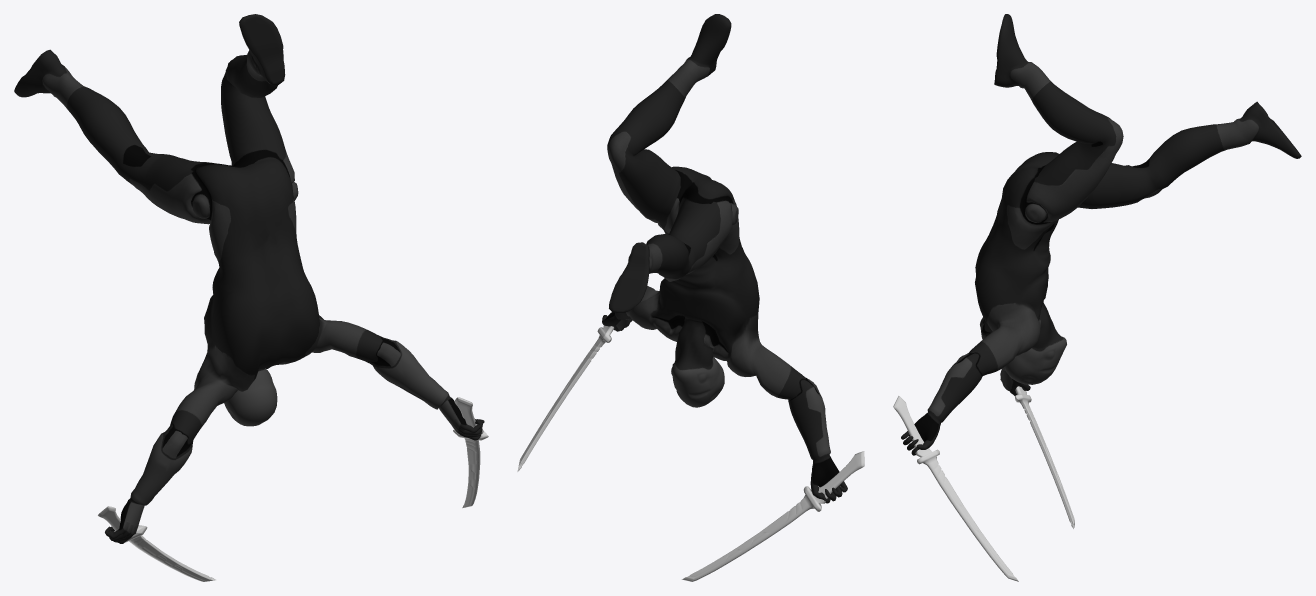
3 views of the same model, side by side, from view 1: azimuth 30°, elevation 25°; view 2: azimuth 150°, elevation 25°; view 3: azimuth 270°, elevation 25° (orthographic). The views are drawn at different scales.
Visible parts, largest first — view 1: Cyborg_Ninja_Killer, Sword_l001, Sword_l; view 2: Cyborg_Ninja_Killer, Sword_l001, Sword_l; view 3: Cyborg_Ninja_Killer, Sword_l, Sword_l001.
Boxes of the visible parts, x1,y1,x2,y2 form: Cyborg_Ninja_Killer: (14,14,484,543); Sword_l001: (98,506,215,581); Sword_l: (453,397,488,508); Cyborg_Ninja_Killer: (602,14,847,503); Sword_l001: (682,451,864,581); Sword_l: (517,325,614,471); Cyborg_Ninja_Killer: (901,14,1301,455); Sword_l: (893,396,1018,581); Sword_l001: (1015,386,1074,528).
Bounding box in the file's own units: 151 × 227 × 164.
